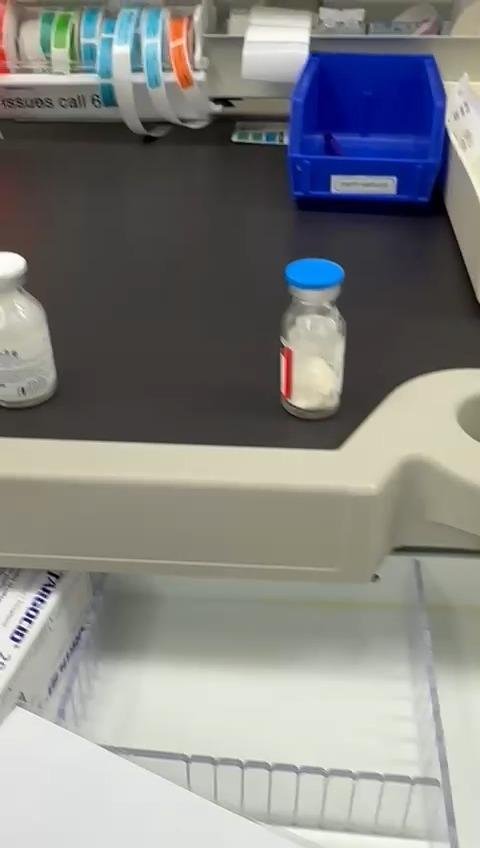augmentin: (0, 252, 56, 407)
cefazolin: (282, 258, 346, 418)
